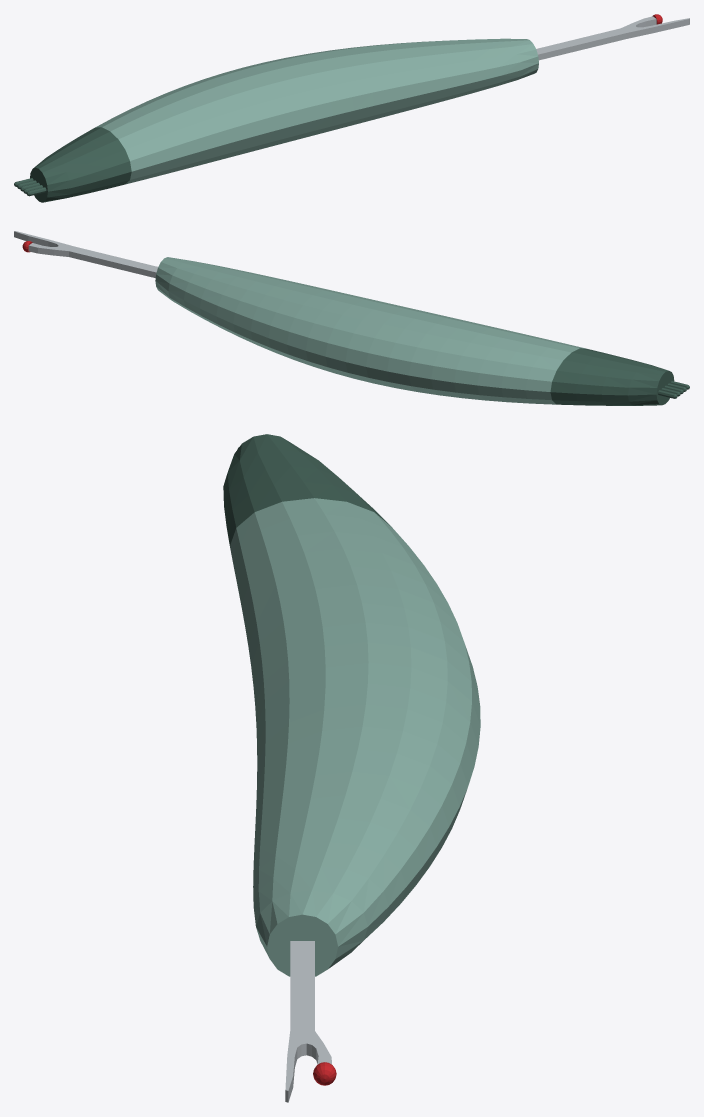
3 views of the same model, one above another, from view 1: azimuth 30°, elevation 25°; view 2: azimuth 150°, elevation 25°; view 3: azimuth 270°, elevation 25° (orthographic). The views are drawn at different scales.
Parts seen in each view (by area): view 1: Ergonomic_handle_with_integral_heel, Continuous_forked_steel_shank; view 2: Ergonomic_handle_with_integral_heel, Continuous_forked_steel_shank; view 3: Ergonomic_handle_with_integral_heel, Continuous_forked_steel_shank.
Boxes of the visible parts, x1,y1,x2,y2 form: Ergonomic_handle_with_integral_heel: [14, 38, 538, 202]; Continuous_forked_steel_shank: [536, 16, 689, 60]; Ergonomic_handle_with_integral_heel: [155, 257, 689, 405]; Continuous_forked_steel_shank: [14, 231, 157, 277]; Ergonomic_handle_with_integral_heel: [223, 434, 480, 976]; Continuous_forked_steel_shank: [285, 941, 331, 1102].
Bounding box in the file's own units: 0.1295 × 0.012 × 0.0217.
